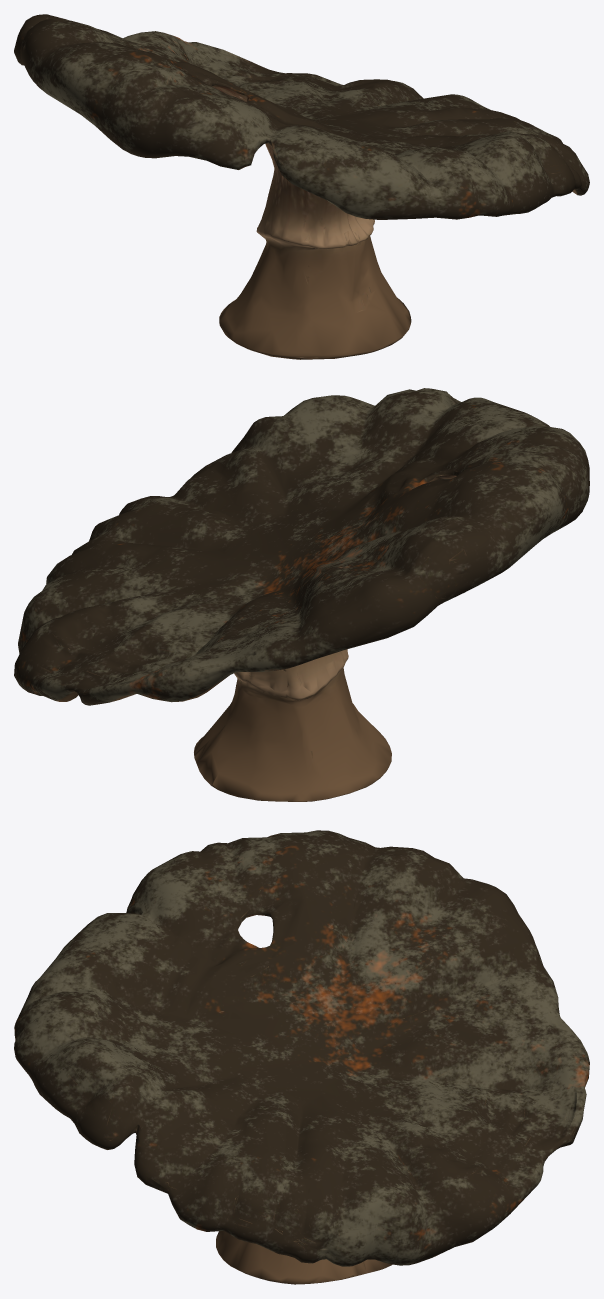
3 renders of one model, top to bottom at view 1: azimuth 30°, elevation 25°; view 2: azimuth 150°, elevation 25°; view 3: azimuth 270°, elevation 25°, orthographic. The views are drawn at different scales.
Visible parts, largest first — view 1: Mushroom.top_0, Mushroom.body_1; view 2: Mushroom.top_0, Mushroom.body_1; view 3: Mushroom.top_0, Mushroom.body_1.
Part boxes in pixels (x1,y1,x2,y2): Mushroom.top_0: [14, 14, 589, 219]; Mushroom.body_1: [212, 85, 577, 359]; Mushroom.top_0: [14, 388, 589, 705]; Mushroom.body_1: [55, 475, 456, 801]; Mushroom.top_0: [14, 830, 589, 1266]; Mushroom.body_1: [216, 914, 392, 1284].
Bounding box in the file's own units: 2.1 × 1.35 × 2.25.
Materials: 2 (2 with a texture image).
